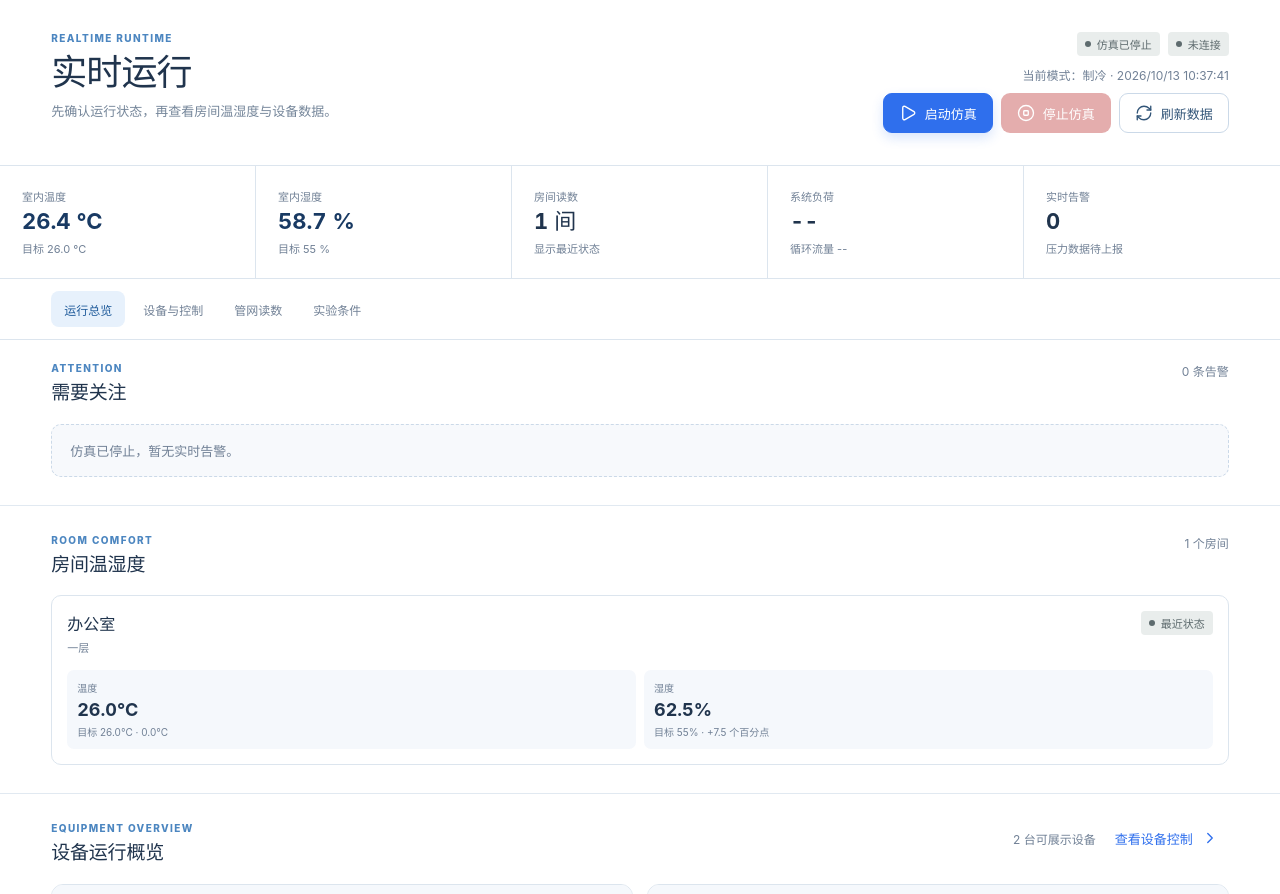
Test: runtime device controls › shows an empty state when the selected device has no controls
Click the tab with id "runtime-tab-devices": (173, 309) [130,291,216,327]
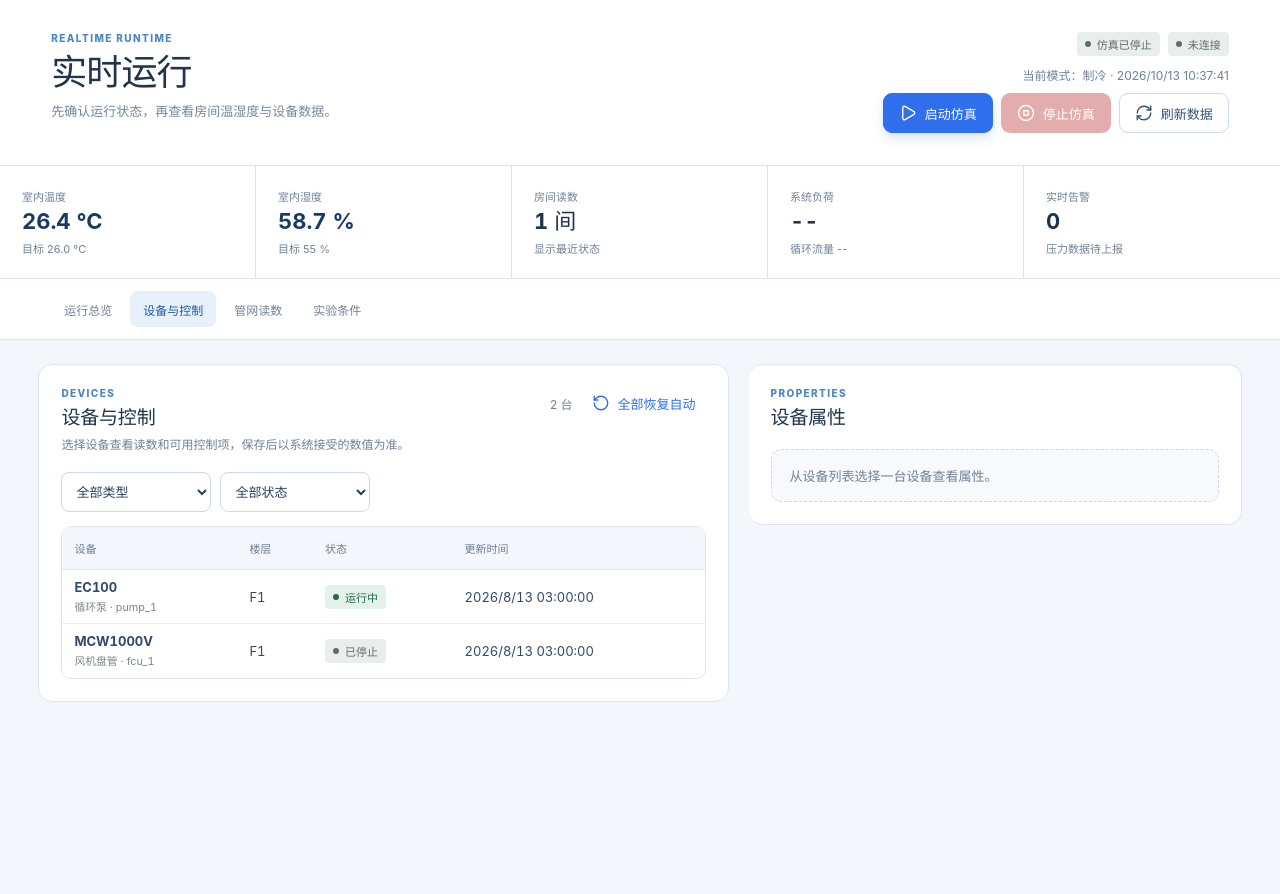
Now the row "MCW1000V 风机盘管 · fcu_1 F1 已停止 2026/8/13 03:00:00" is shown
Click the row "MCW1000V 风机盘管 · fcu_1 F1 已停止 2026/8/13 03:00:00": (384, 651) [62,624,705,678]
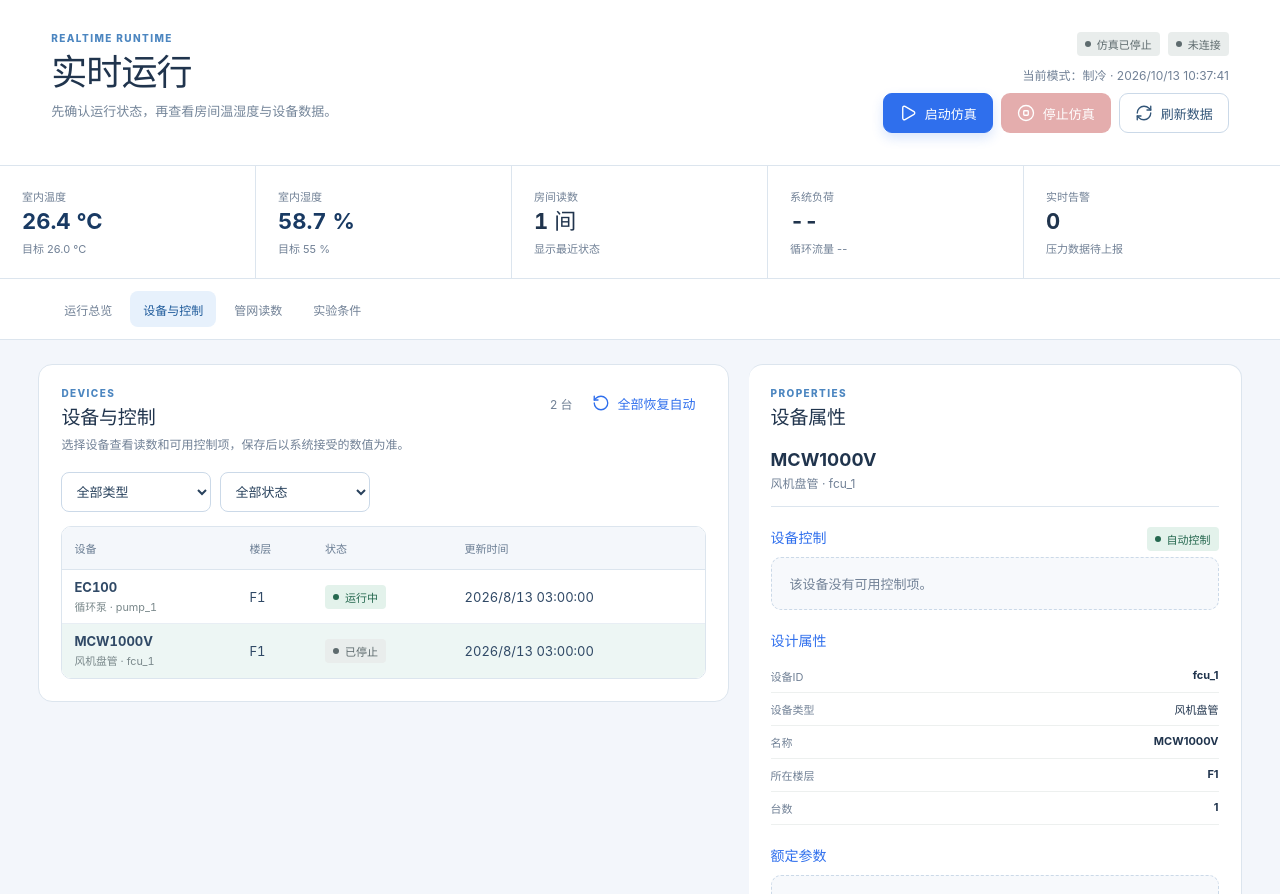
Now the text with class "empty-state" reads "该设备没有可用控制项。", box [790,576,933,592]
